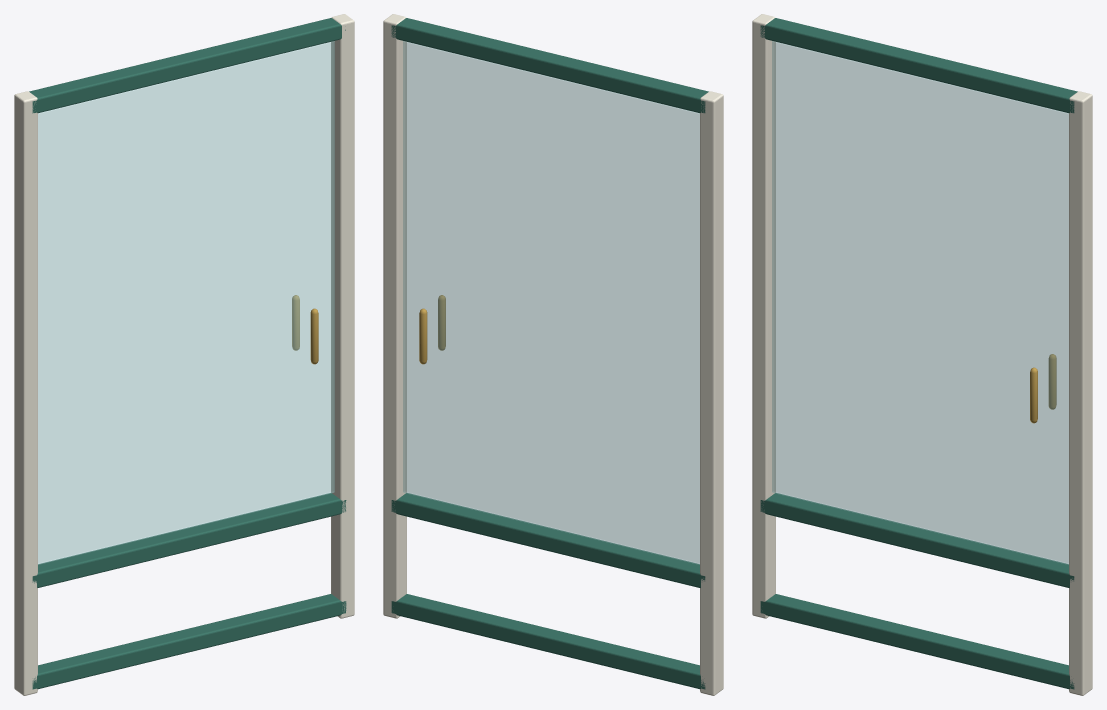
Rendered from greenhouse_door.glb.
3 renders of one model, left to right at view 1: azimuth 30°, elevation 25°; view 2: azimuth 150°, elevation 25°; view 3: azimuth 330°, elevation 25°, orthographic.
Parts seen in each view (by area): view 1: Glass, Stile, Stile.001, Rail.002, Rail, Rail.001; view 2: Glass, Stile, Stile.001, Rail.002, Rail, Rail.001; view 3: Glass, Stile.001, Stile, Rail.002, Rail, Rail.001.
Boxes of the visible parts, bbox=[...] form: Glass: bbox=[38, 41, 334, 564]; Stile: bbox=[14, 91, 37, 695]; Stile.001: bbox=[331, 14, 354, 618]; Rail.002: bbox=[29, 18, 345, 113]; Rail: bbox=[32, 594, 346, 689]; Rail.001: bbox=[32, 493, 346, 587]; Glass: bbox=[403, 41, 699, 564]; Stile: bbox=[700, 91, 723, 695]; Stile.001: bbox=[383, 14, 406, 618]; Rail.002: bbox=[391, 18, 708, 113]; Rail: bbox=[391, 594, 705, 689]; Rail.001: bbox=[391, 493, 705, 587]; Glass: bbox=[772, 41, 1068, 564]; Stile.001: bbox=[1069, 91, 1092, 695]; Stile: bbox=[752, 14, 775, 618]; Rail.002: bbox=[760, 18, 1077, 113]; Rail: bbox=[760, 594, 1074, 689]; Rail.001: bbox=[760, 493, 1074, 587].
Bounding box in the file's own units: 1.23 × 2.12 × 0.146.
